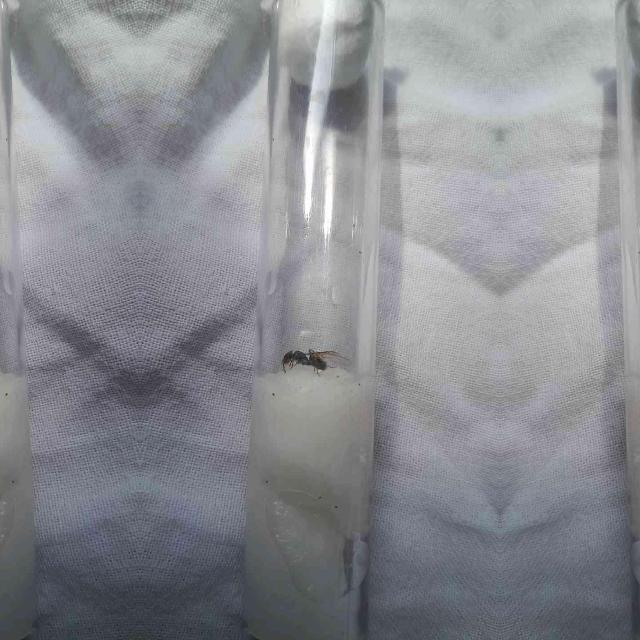Lasius: (280, 348, 330, 368)
